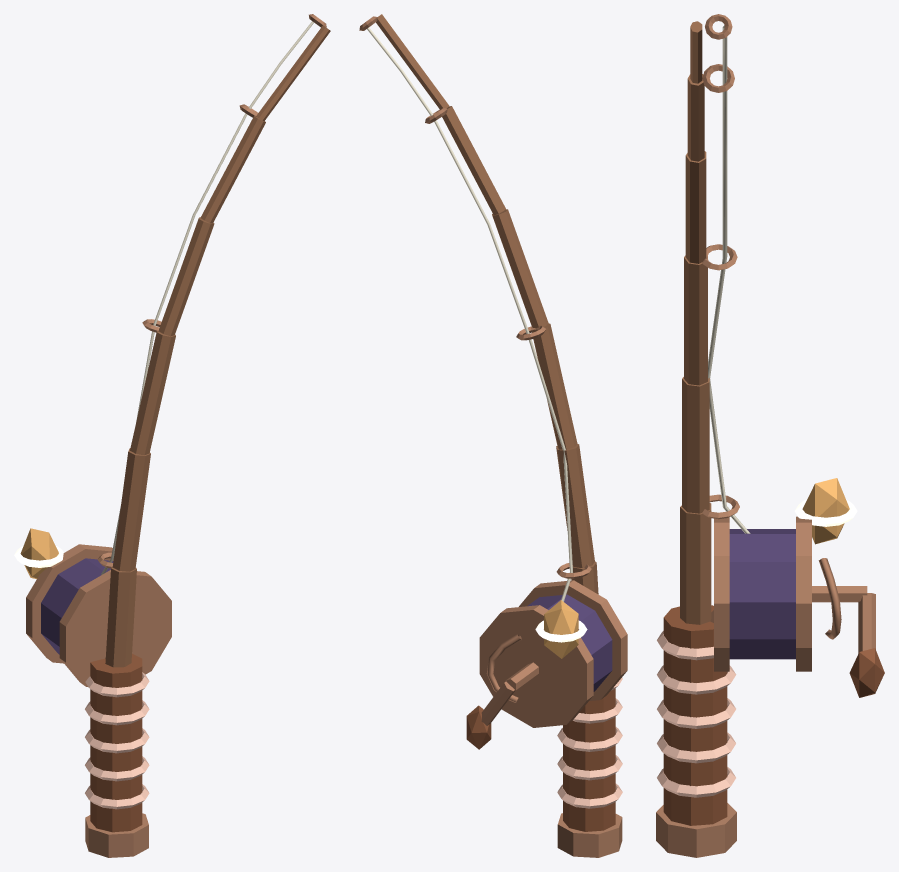
Rendered from fishing_rod.glb.
The picture shows the model from 3 angles, left to right: view 1: azimuth 30°, elevation 25°; view 2: azimuth 150°, elevation 25°; view 3: azimuth 270°, elevation 25°; orthographic projection. The views are drawn at different scales.
Parts seen in each view (by area): view 1: LF_RodShaft, LF_RodMetal, LF_RodGrip, LF_RodWrap, LF_RodSpool, LF_RodLine, LF_RodAccent; view 2: LF_RodMetal, LF_RodShaft, LF_RodGrip, LF_RodWrap, LF_RodLine, LF_RodSpool, LF_RodAccent; view 3: LF_RodShaft, LF_RodMetal, LF_RodGrip, LF_RodSpool, LF_RodWrap, LF_RodLine, LF_RodAccent, LF_RodBobberGlow.
Boxes of the visible parts, <box> form: LF_RodShaft: <box>105,25,330,667</box>; LF_RodMetal: <box>26,14,326,857</box>; LF_RodGrip: <box>90,653,142,832</box>; LF_RodWrap: <box>85,672,149,809</box>; LF_RodSpool: <box>41,558,113,654</box>; LF_RodLine: <box>101,21,314,574</box>; LF_RodAccent: <box>20,528,58,579</box>; LF_RodMetal: <box>359,16,627,857</box>; LF_RodShaft: <box>376,14,598,594</box>; LF_RodGrip: <box>466,688,615,831</box>; LF_RodWrap: <box>557,678,622,808</box>; LF_RodLine: <box>367,27,572,601</box>; LF_RodSpool: <box>527,594,612,691</box>; LF_RodAccent: <box>544,600,578,658</box>; LF_RodShaft: <box>680,21,711,624</box>; LF_RodMetal: <box>656,14,875,857</box>; LF_RodGrip: <box>663,605,884,825</box>; LF_RodSpool: <box>729,529,795,659</box>; LF_RodWrap: <box>657,631,736,797</box>; LF_RodLine: <box>708,25,750,533</box>; LF_RodAccent: <box>802,478,849,544</box>; LF_RodBobberGlow: <box>794,499,857,526</box>.
Bounding box in the file's own units: 0.591 × 1.66 × 0.362.
